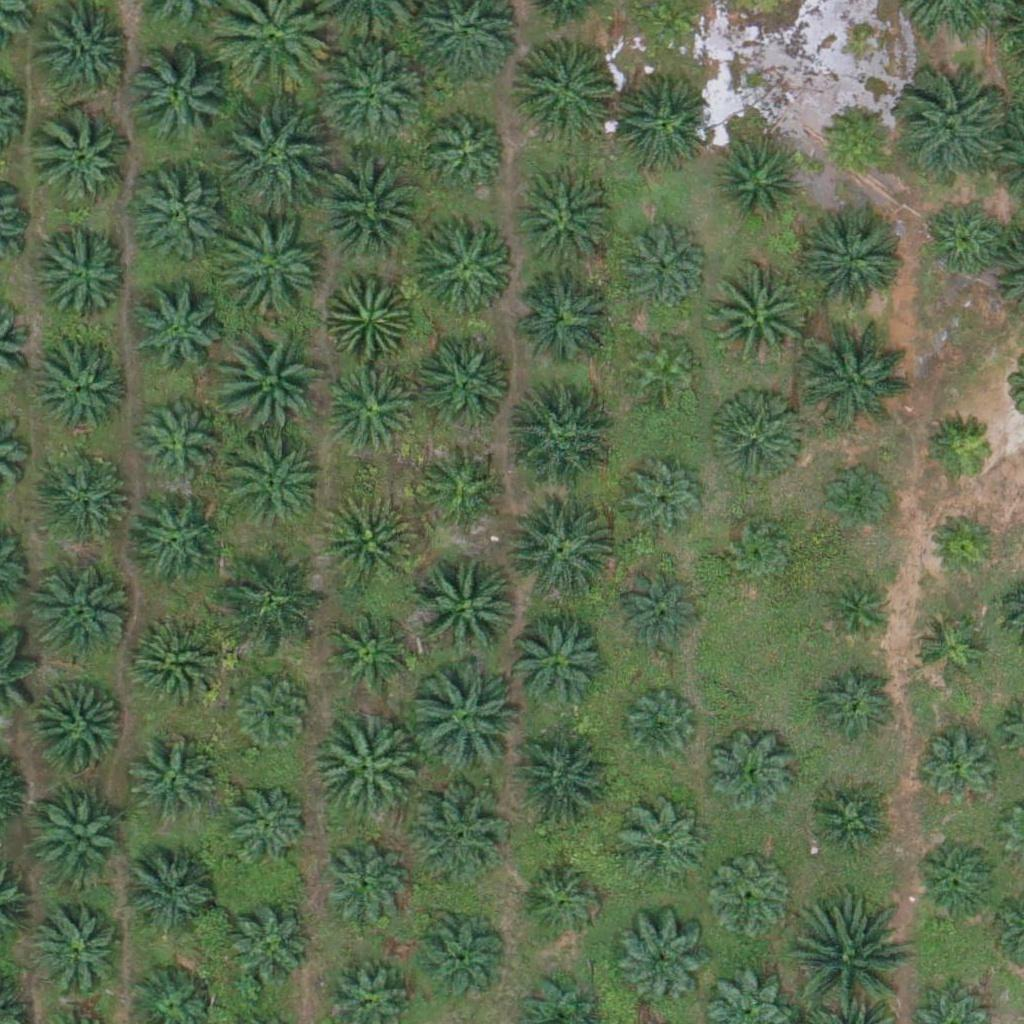Kelapa_Sawit: (794, 905, 907, 1018), (499, 730, 612, 843), (408, 667, 521, 780), (219, 539, 332, 652), (219, 214, 332, 327), (218, 98, 331, 211), (897, 72, 1010, 185), (319, 35, 431, 149), (414, 552, 526, 666), (308, 711, 420, 824), (218, 428, 330, 541), (213, 318, 325, 431), (311, 150, 423, 263), (500, 381, 612, 494), (501, 495, 613, 608), (802, 321, 914, 434), (508, 617, 608, 718), (405, 784, 505, 885), (122, 613, 222, 714), (124, 842, 224, 943), (32, 561, 132, 662), (31, 337, 131, 438), (33, 108, 133, 209), (129, 45, 229, 146), (124, 281, 224, 382), (127, 493, 227, 594), (317, 492, 417, 593), (416, 336, 516, 437), (415, 212, 515, 313), (517, 176, 617, 277), (515, 267, 615, 368), (608, 74, 708, 175), (707, 267, 807, 368), (804, 206, 904, 307), (29, 680, 129, 780), (30, 785, 130, 885), (39, 448, 139, 548), (34, 224, 134, 324), (128, 163, 228, 263), (514, 38, 614, 138), (708, 386, 808, 486), (914, 721, 1002, 810), (812, 665, 900, 753), (800, 781, 888, 869), (616, 924, 704, 1012), (230, 670, 318, 758), (219, 777, 307, 865), (223, 905, 311, 993), (416, 910, 504, 998), (517, 856, 605, 944), (706, 857, 794, 945), (132, 738, 220, 826), (921, 198, 1009, 286), (328, 362, 416, 450), (324, 613, 412, 701), (422, 437, 510, 525), (615, 570, 703, 658), (622, 452, 710, 540), (913, 836, 1000, 924), (320, 838, 407, 926), (708, 728, 795, 816), (619, 801, 706, 889), (37, 904, 124, 992), (134, 395, 221, 483), (326, 270, 413, 358), (427, 112, 514, 200), (620, 219, 707, 307), (714, 139, 801, 227), (818, 100, 893, 176), (623, 691, 698, 767), (821, 462, 896, 538), (819, 574, 894, 650), (926, 412, 1001, 487), (627, 333, 702, 408), (911, 612, 986, 687), (725, 517, 800, 592), (926, 508, 1001, 583)
